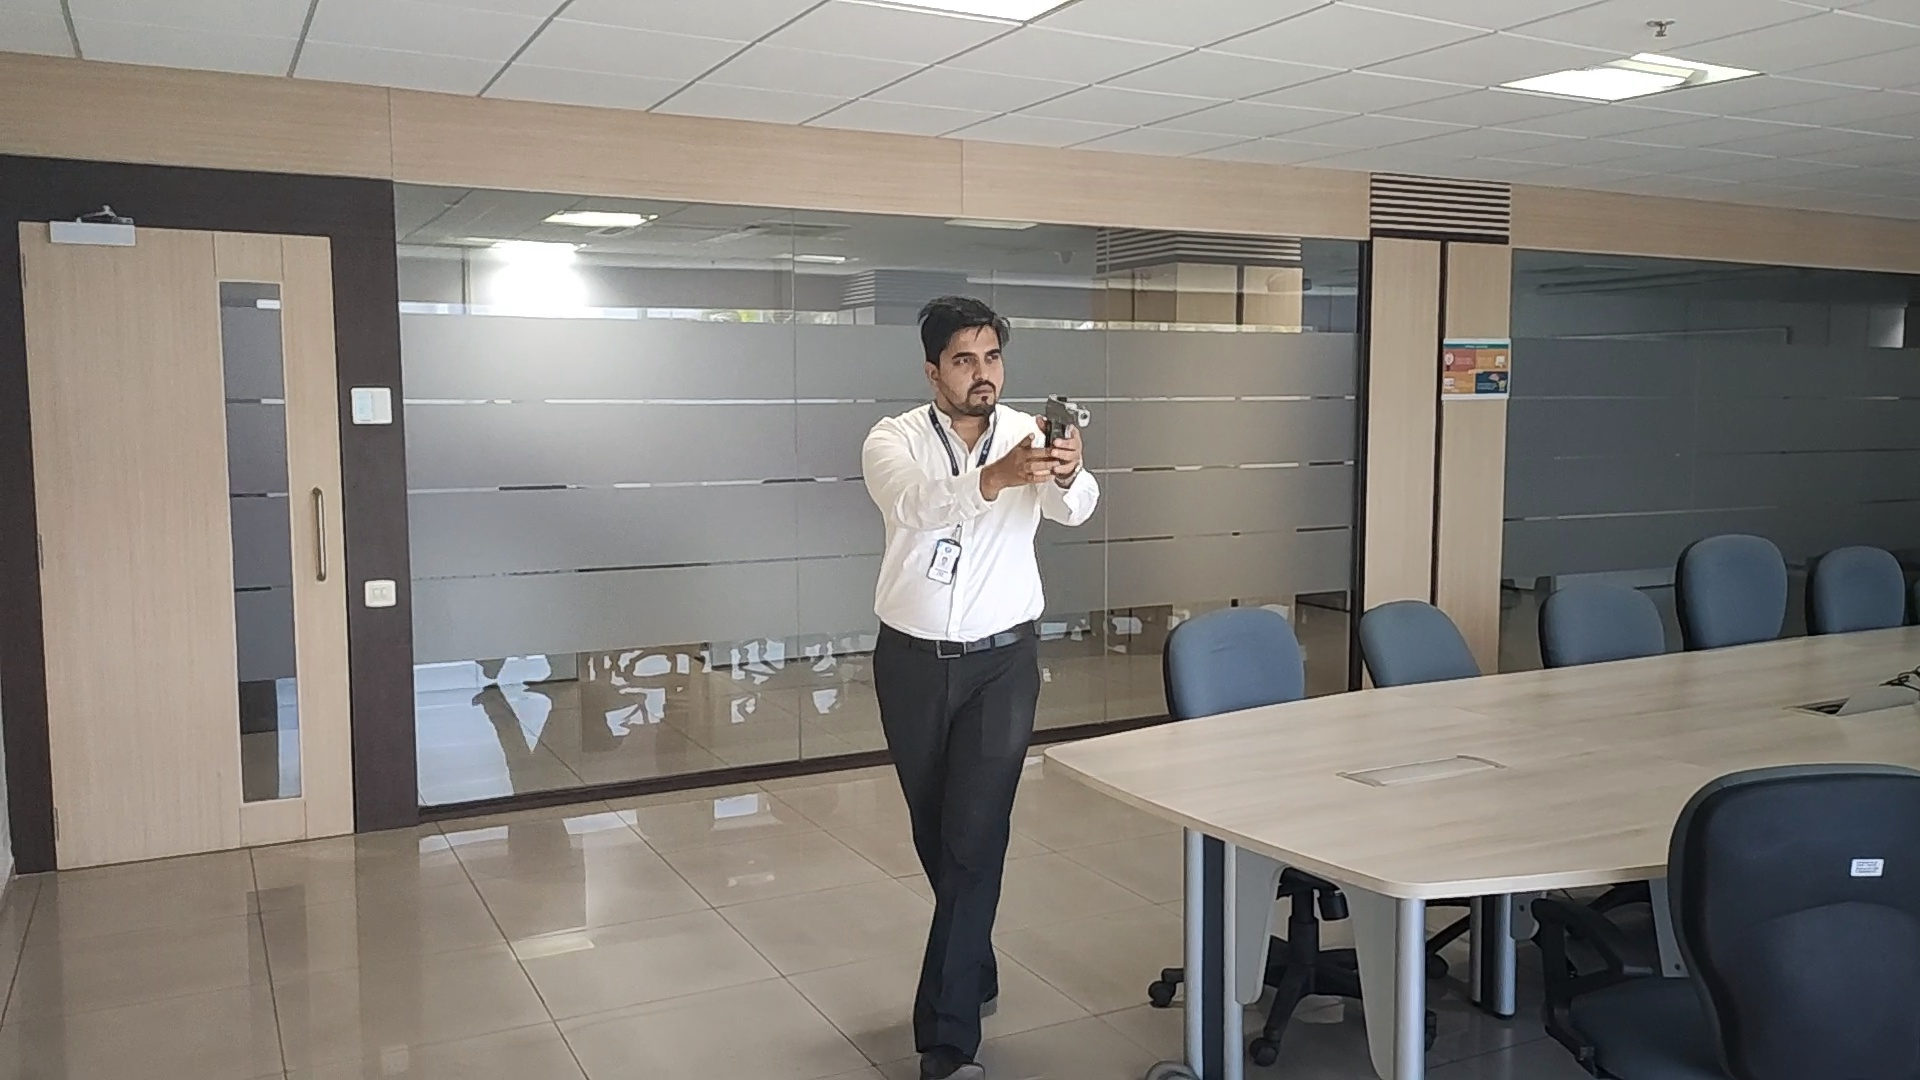gun: (1042, 392, 1093, 444)
